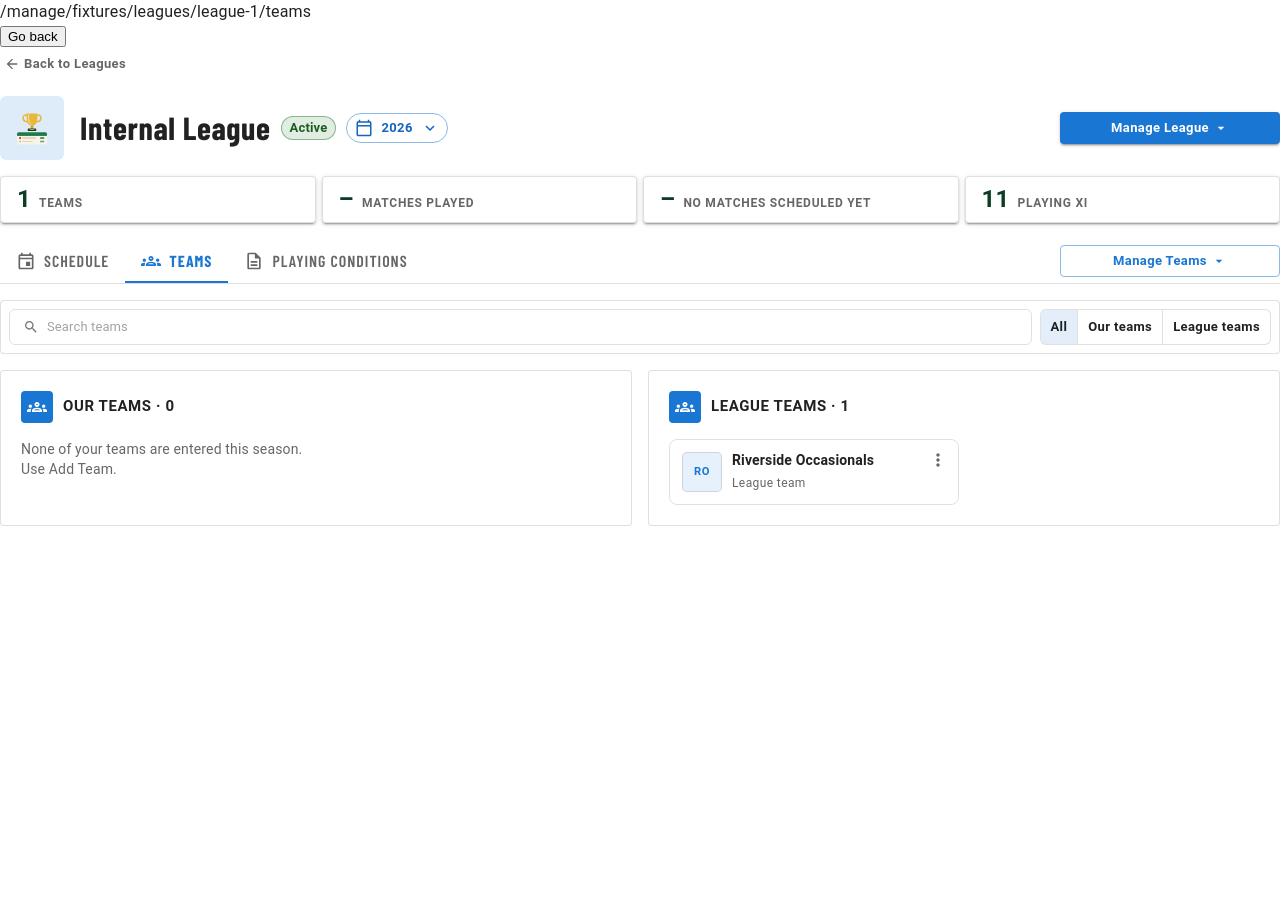
Test case: LeagueTeamsView › add actions › Copy Teams opens the Copy league teams dialog directly
Click the button "Manage Teams".
click(1170, 261)  # box left=1060, top=245, right=1279, bottom=277
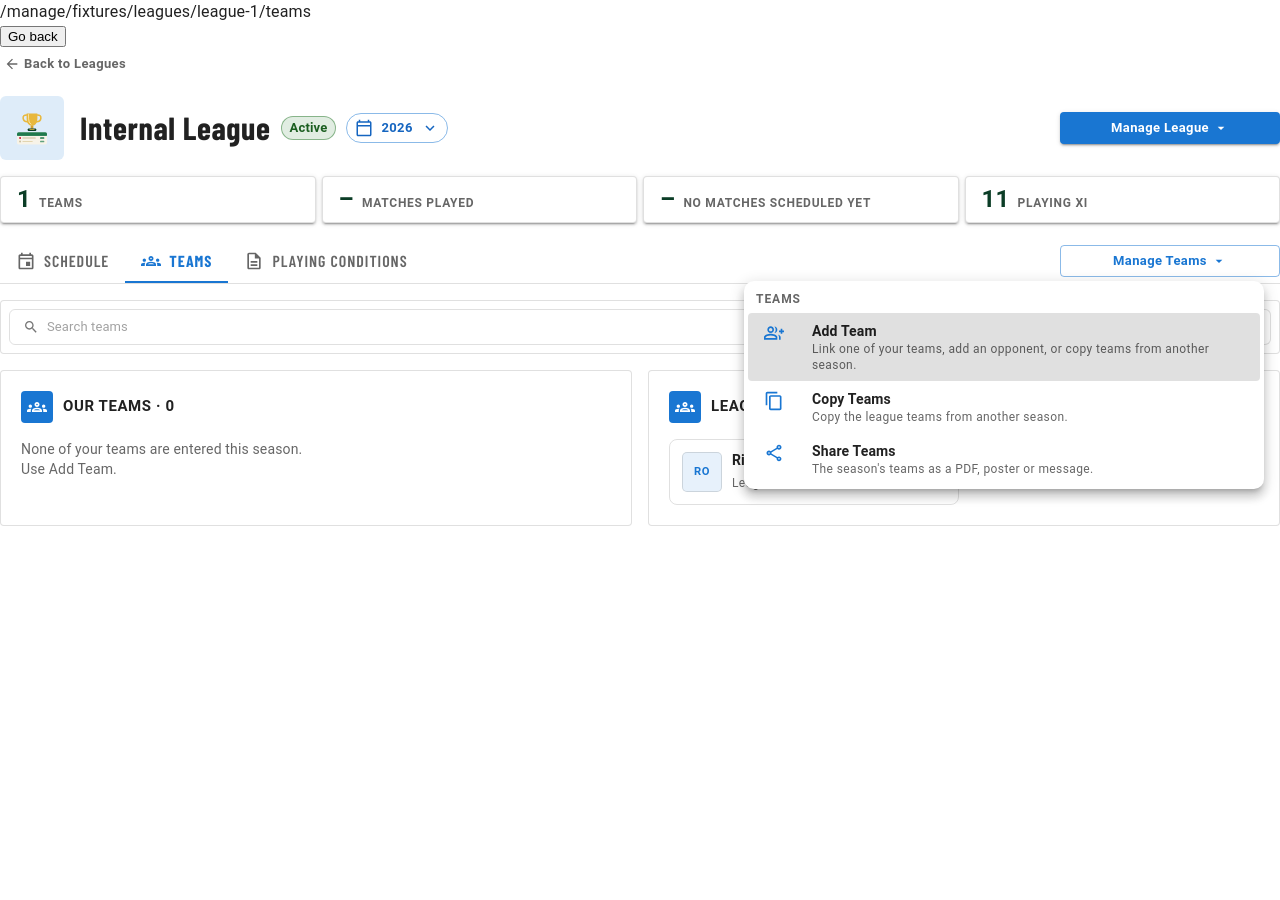
Click the menu item "Copy Teams Copy the league teams from another season.".
click(916, 408)  # box left=764, top=391, right=1068, bottom=424
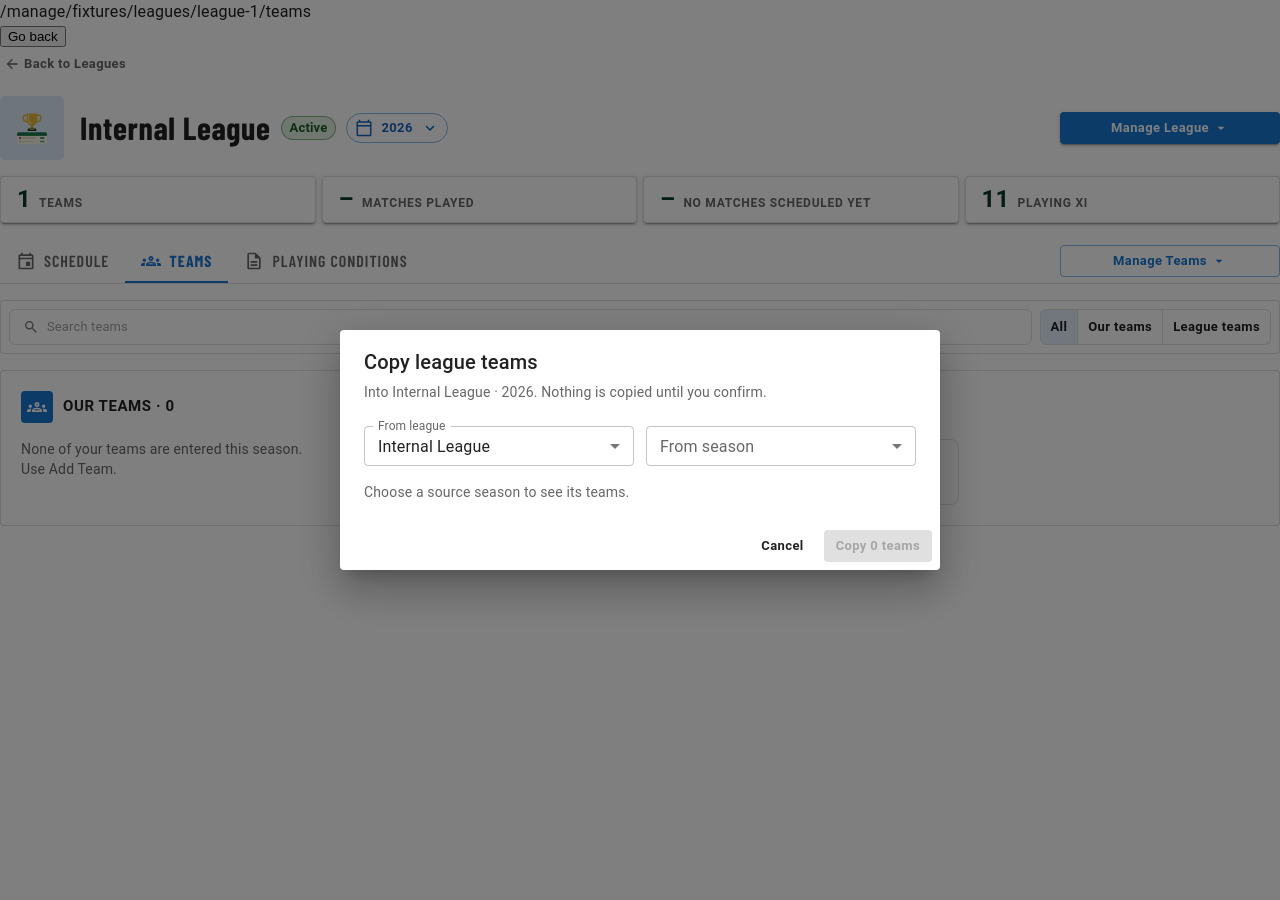
Now the heading "Copy league teams" is shown, box left=364, top=350, right=538, bottom=374
